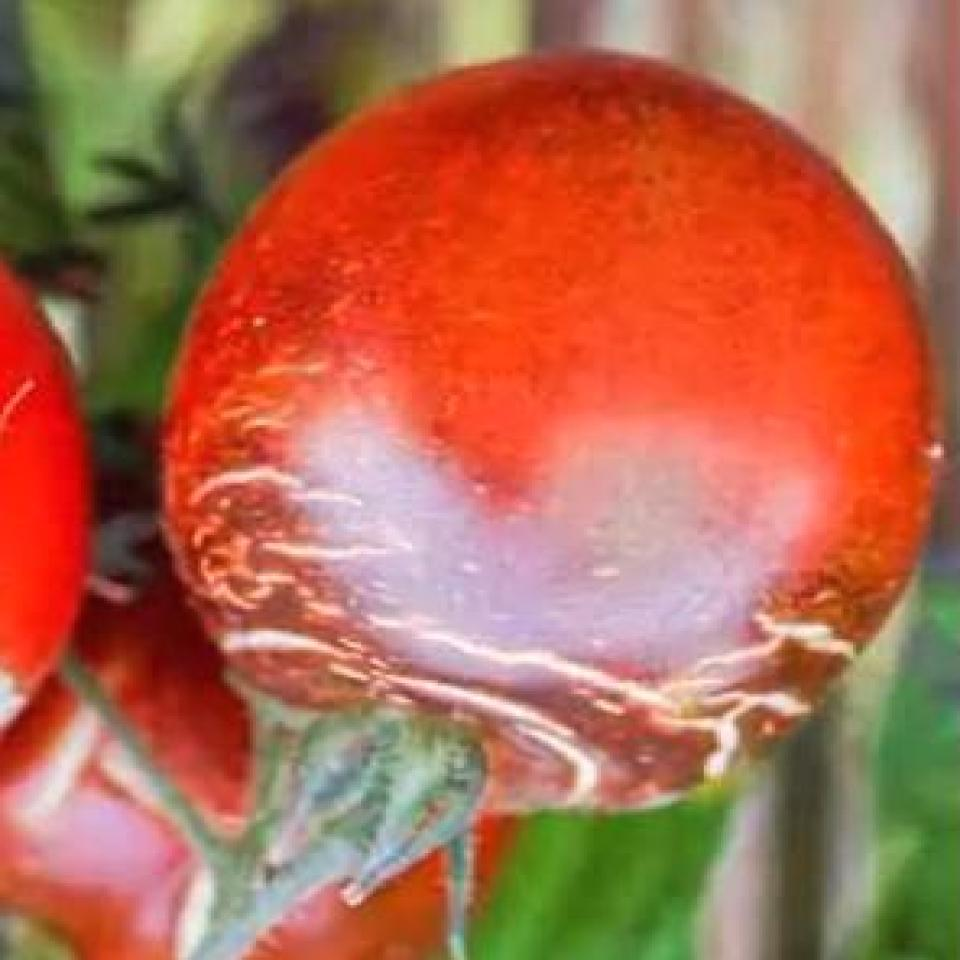Cracking: (333, 596, 888, 706), (387, 674, 604, 828), (0, 659, 136, 844), (658, 698, 804, 794), (146, 842, 246, 960), (189, 615, 333, 695)
